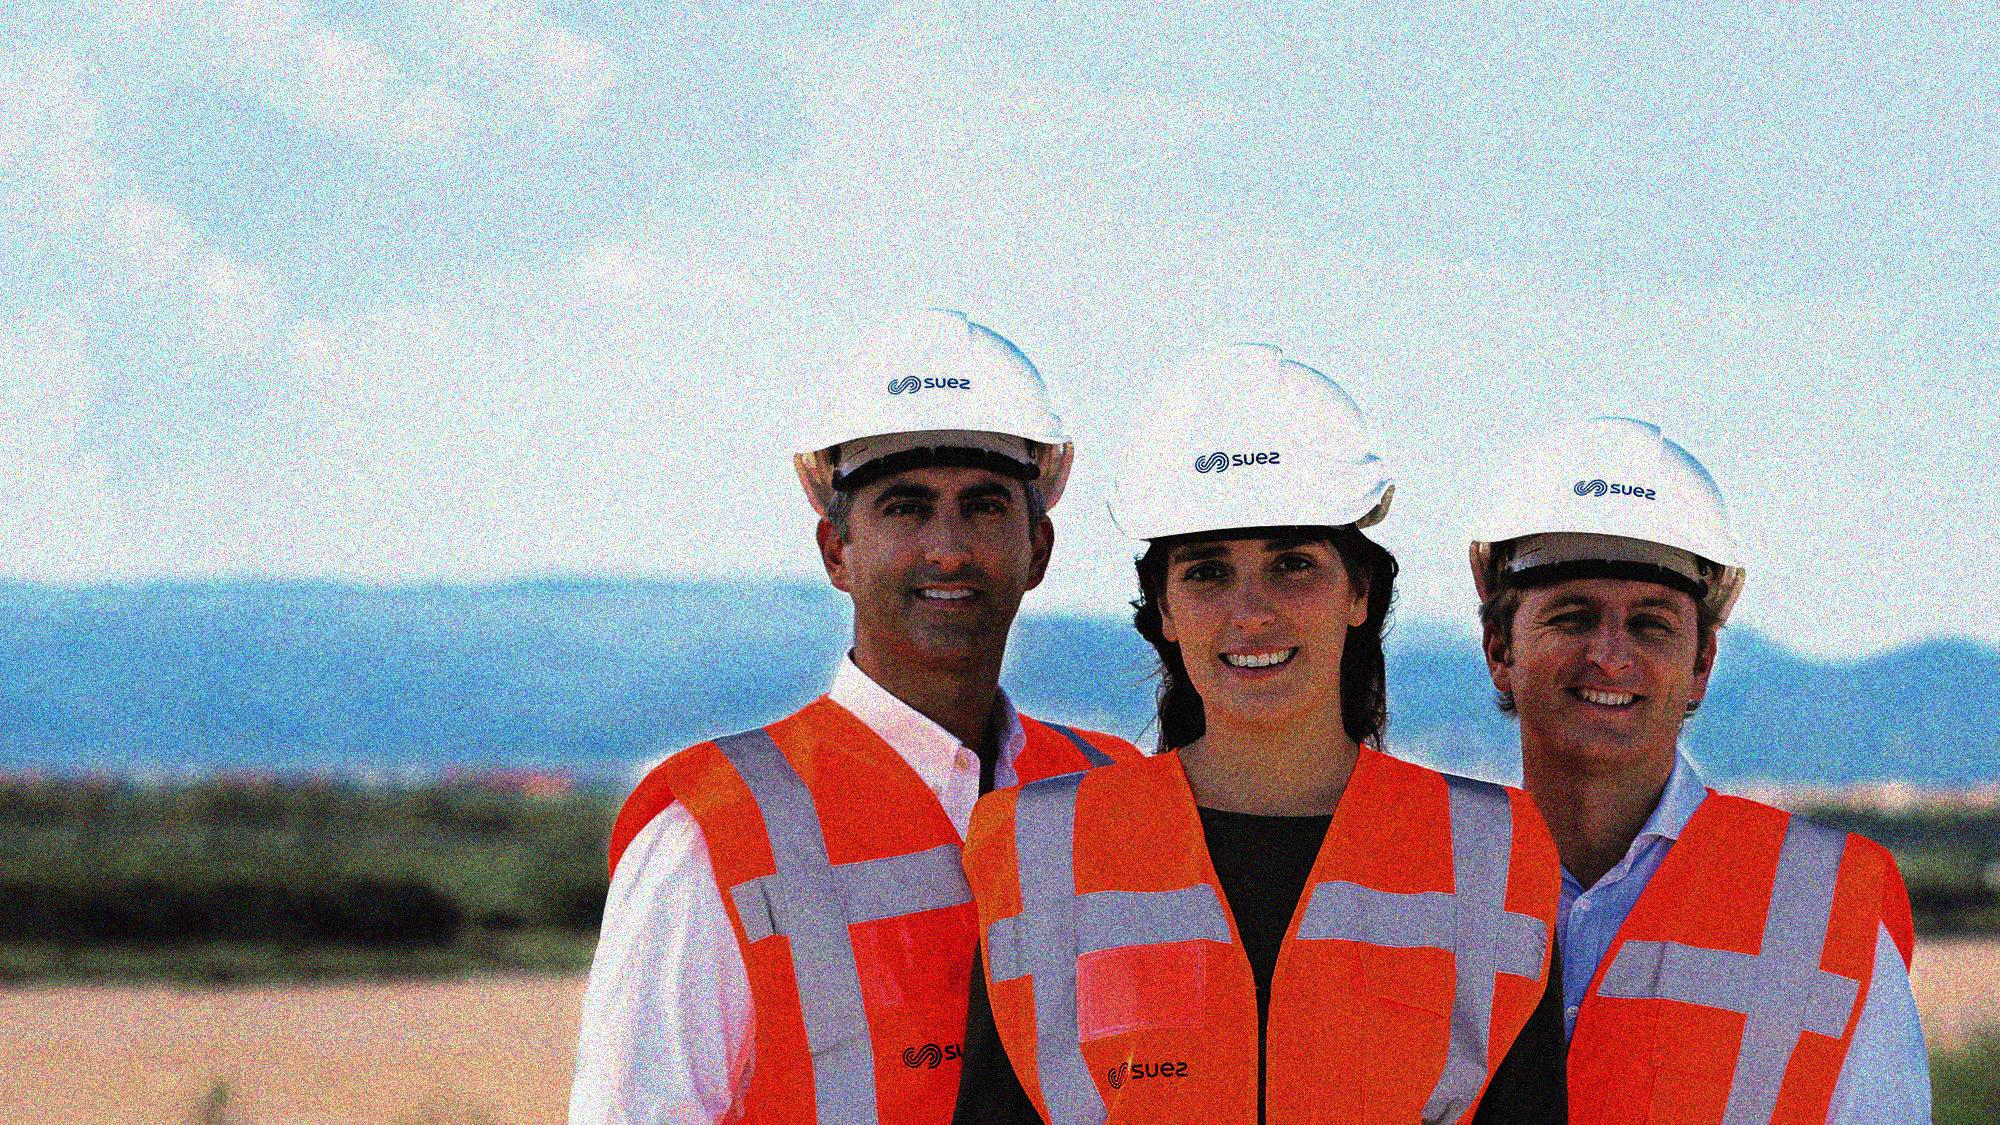helmet: (1111, 345, 1397, 720), (1457, 416, 1746, 777), (788, 305, 1080, 661)
